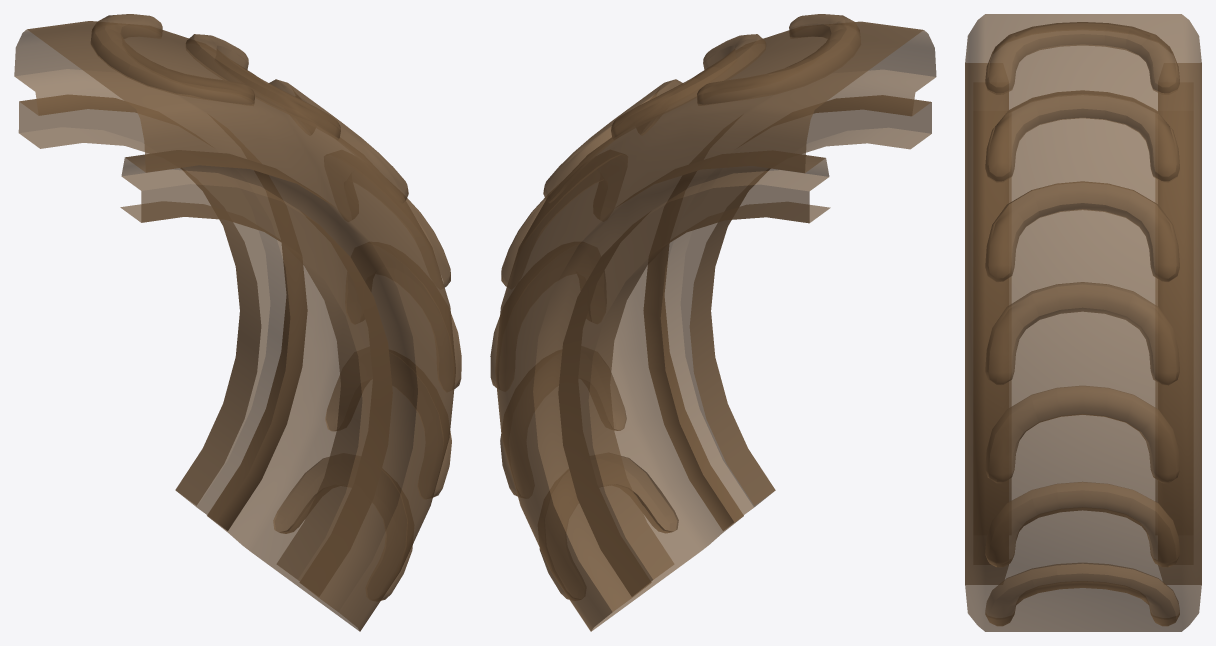
File: MouseWheel_MouseTrans_0.dae
The picture shows the model from 3 angles, left to right: view 1: azimuth 30°, elevation 25°; view 2: azimuth 150°, elevation 25°; view 3: azimuth 270°, elevation 25°; orthographic projection. The views are drawn at different scales.
Parts seen in each view (by area): view 1: MouseWheel_MouseTrans_0; view 2: MouseWheel_MouseTrans_0; view 3: MouseWheel_MouseTrans_0.
Boxes of the visible parts, x1,y1,x2,y2 form: MouseWheel_MouseTrans_0: (14, 14, 461, 631); MouseWheel_MouseTrans_0: (490, 14, 936, 631); MouseWheel_MouseTrans_0: (965, 14, 1201, 631).
Bounding box in the file's own units: 0.00796 × 0.0134 × 0.00545.
